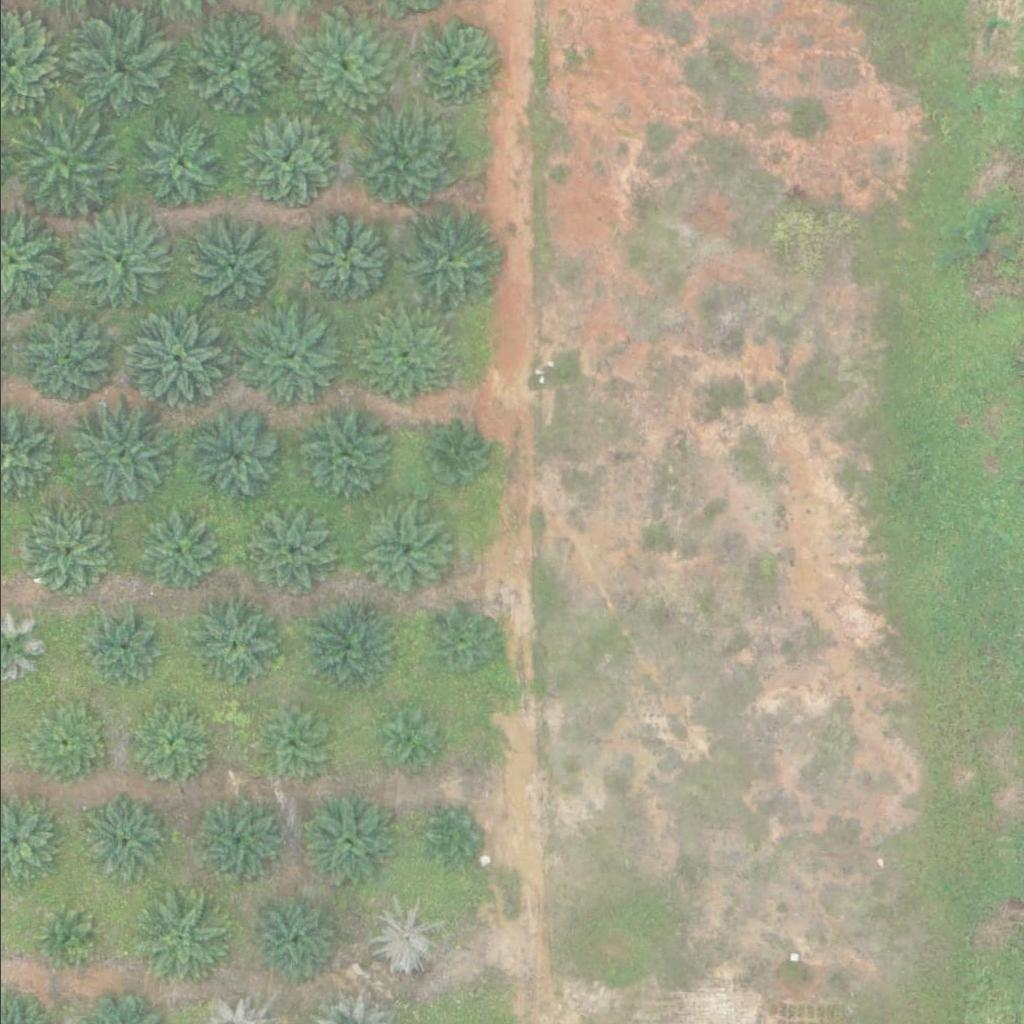Kelapa_Sawit: (285, 11, 399, 124), (173, 15, 287, 128), (9, 112, 123, 225), (63, 399, 176, 512), (59, 202, 173, 314), (59, 15, 172, 127), (389, 206, 502, 318), (119, 306, 232, 418), (346, 114, 447, 214), (287, 215, 388, 315), (181, 217, 282, 317), (349, 308, 450, 408), (243, 310, 344, 410), (291, 404, 392, 504), (183, 407, 284, 507), (353, 501, 454, 601), (238, 114, 338, 214), (127, 117, 227, 217), (16, 309, 116, 409), (296, 793, 396, 893), (242, 892, 342, 992), (128, 892, 228, 992), (241, 509, 330, 597), (17, 699, 106, 787), (299, 603, 387, 691), (186, 600, 274, 688), (120, 702, 208, 790), (411, 18, 499, 105), (128, 506, 216, 593), (18, 509, 106, 596), (191, 798, 279, 885), (75, 797, 163, 884), (367, 899, 443, 974), (249, 705, 324, 780), (81, 609, 156, 684), (428, 610, 491, 673), (381, 707, 444, 770), (426, 427, 489, 490), (30, 907, 93, 970), (421, 803, 483, 865)
